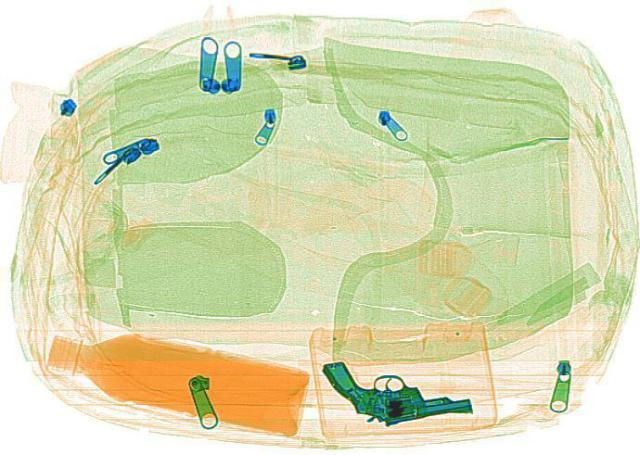Gun: (316, 343, 472, 427)
